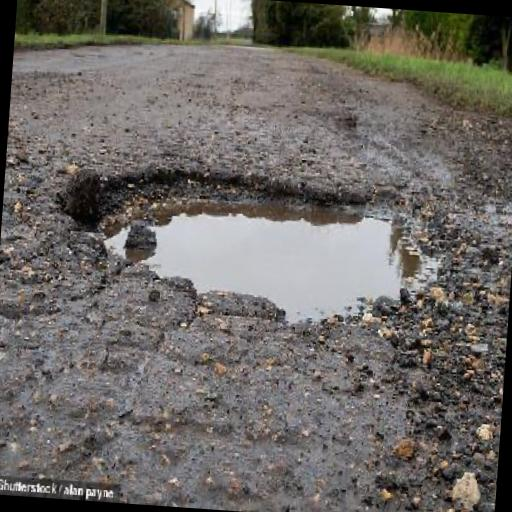pothole: (50, 153, 468, 342)
